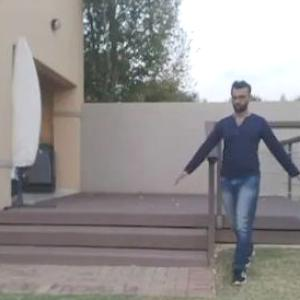land: (172, 81, 299, 288)
